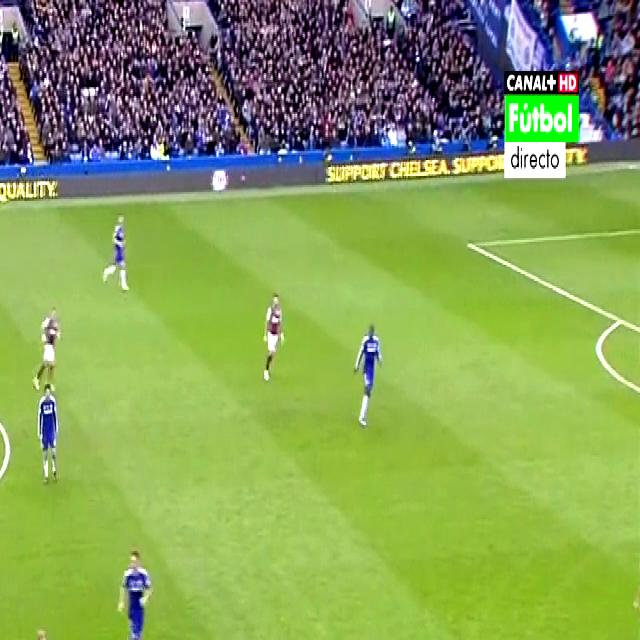soccer-player: (108, 537, 157, 640), (351, 313, 388, 434), (32, 375, 64, 493), (257, 280, 290, 391), (31, 296, 63, 398), (103, 207, 131, 298), (20, 618, 64, 640), (316, 631, 382, 640)
